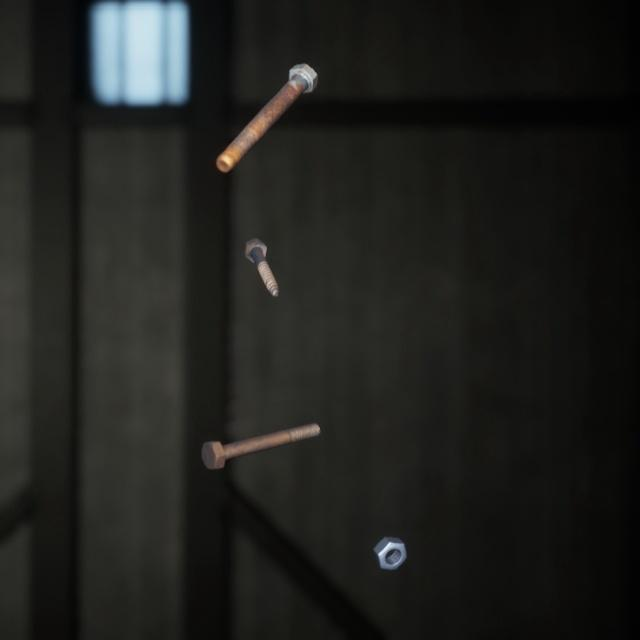bolt: (211, 47, 322, 163), (197, 398, 324, 452), (239, 217, 283, 283)
nut: (368, 510, 411, 553)
